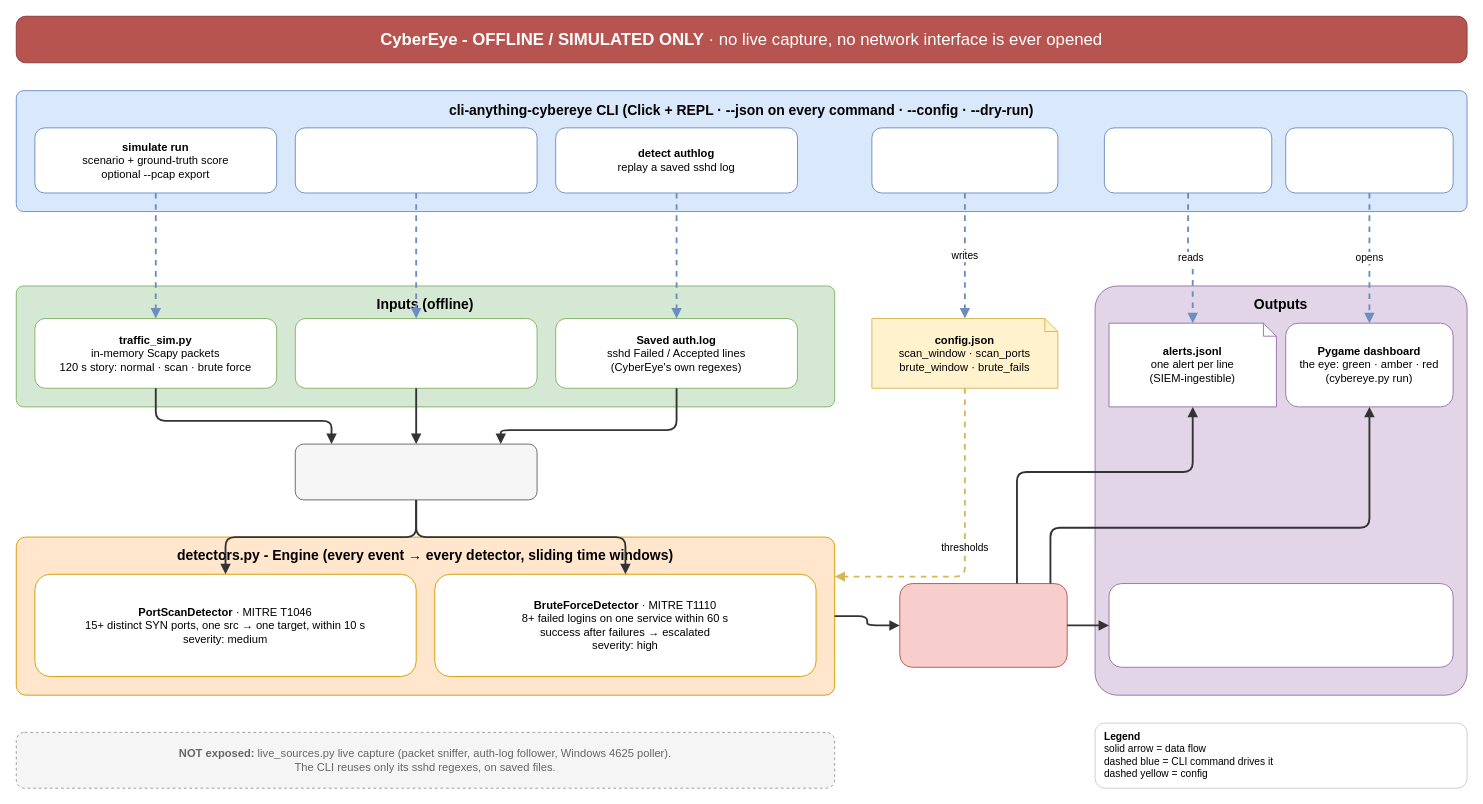
Image size: 1483x804. Some labels were removed from this diagram. Each missing label, with the centre of its shape:
"--json on stdout results, ground truth, errors (for agents / scripts)" belongs at pixel 1280 625.
"Alert ts · rule · severity src · dst · detail · mitre" belongs at pixel 983 625.
"alerts summary counts by rule / severity / src" belongs at pixel 1187 160.
"config new · show · set · reset" belongs at pixel 964 160.
"dashboard GUI on the simulation" belongs at pixel 1369 160.
"detect pcap replay a saved capture" belongs at pixel 415 160.
"Event ts · Scapy IP/TCP packet · auth_result" belongs at pixel 415 471.
"Saved .pcap read with Scapy rdpcap (no login results → scans only)" belongs at pixel 415 353.
